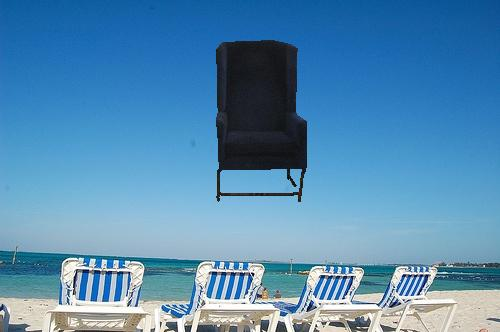tampered: (217, 41, 307, 202)
